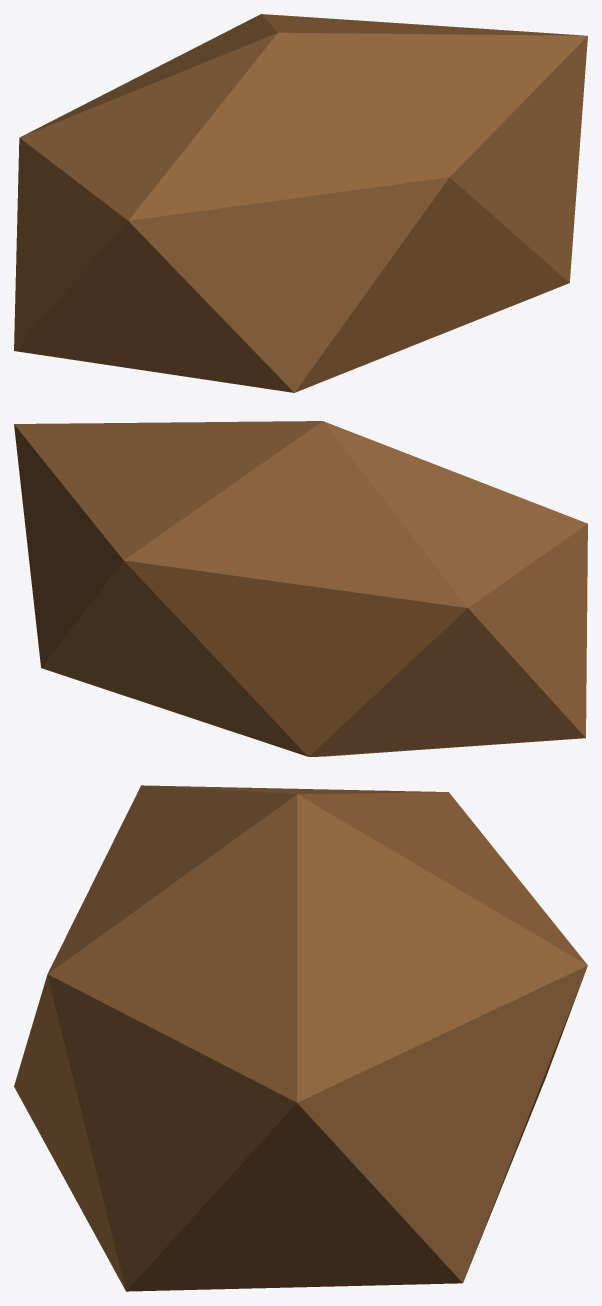
The model's file is w3d_item_hazelnuts_s.glb.
3 renders of one model, top to bottom at view 1: azimuth 30°, elevation 25°; view 2: azimuth 150°, elevation 25°; view 3: azimuth 270°, elevation 25°, orthographic. The views are drawn at different scales.
Visible parts, largest first — view 1: item_018_hazelnuts_s; view 2: item_018_hazelnuts_s; view 3: item_018_hazelnuts_s.
Part boxes in pixels (<box>): item_018_hazelnuts_s: <box>14,14,587,392</box>; item_018_hazelnuts_s: <box>14,421,587,756</box>; item_018_hazelnuts_s: <box>14,785,587,1291</box>.
Size of the model in its own units: 0.3304 by 0.1853 by 0.2132.
